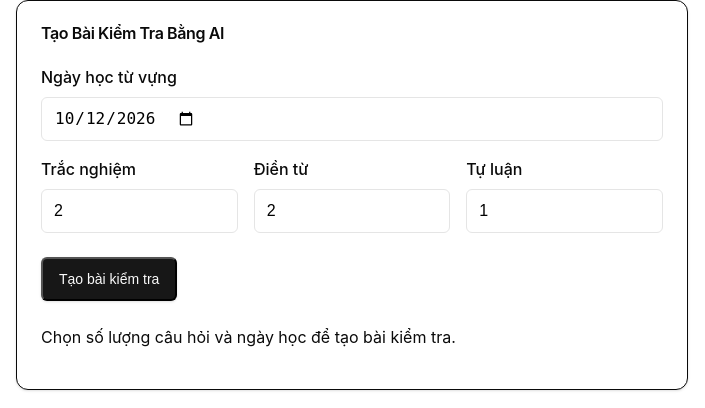
Scenario: QuizBuilder › rejects count > 20 for a single type
The image size is (705, 408).
Replace the text in the number field labelled "Trắc nghiệm" with "21" at (139, 211), box x1=41 y1=189 x2=238 y2=233
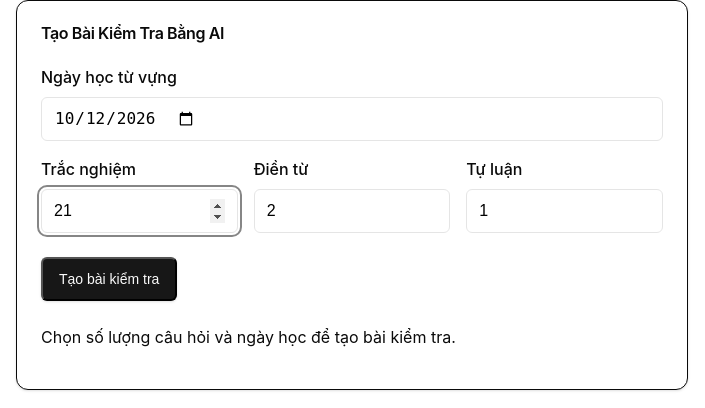
Replace the text in the number field labelled "Điền từ" with "0" at (352, 211), box x1=254 y1=189 x2=450 y2=233
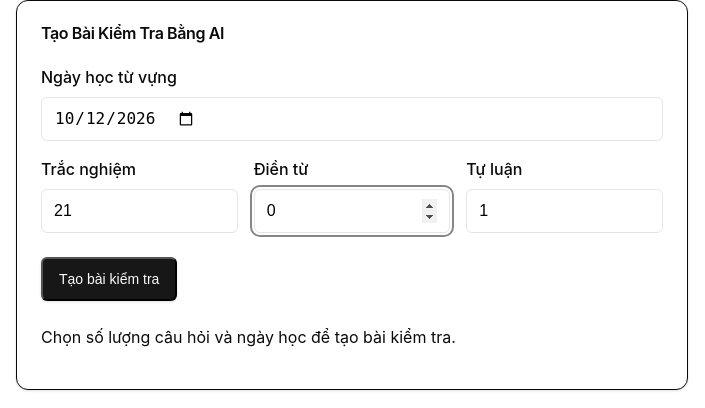
Replace the text in the number field labelled "Tự luận" with "0" at (565, 211), box x1=466 y1=189 x2=663 y2=233
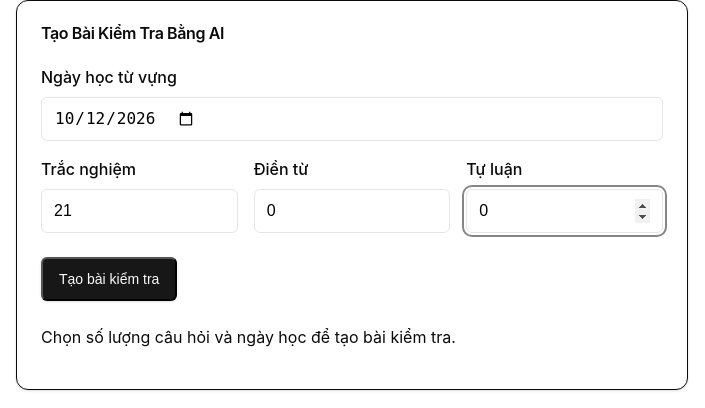
Click the button "Tạo bài kiểm tra".
click(109, 279)  # box x1=41 y1=257 x2=177 y2=301
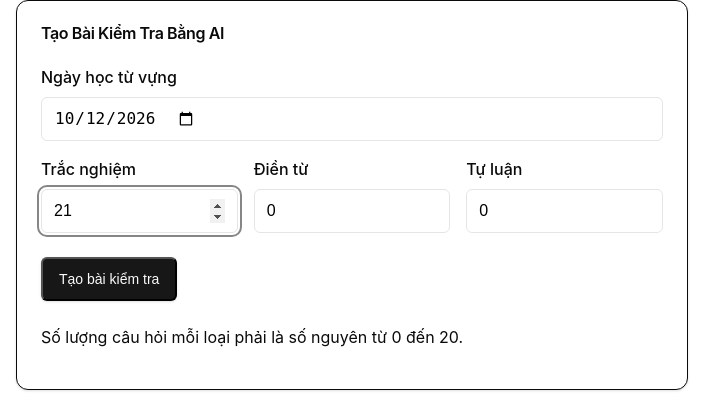
Expected: the text "Số lượng câu hỏi mỗi loại phải là số nguyên từ 0 đến 20." is shown, x1=41 y1=327 x2=463 y2=347
